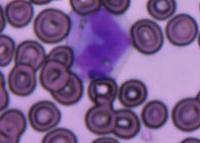M: (72, 5, 132, 80)
